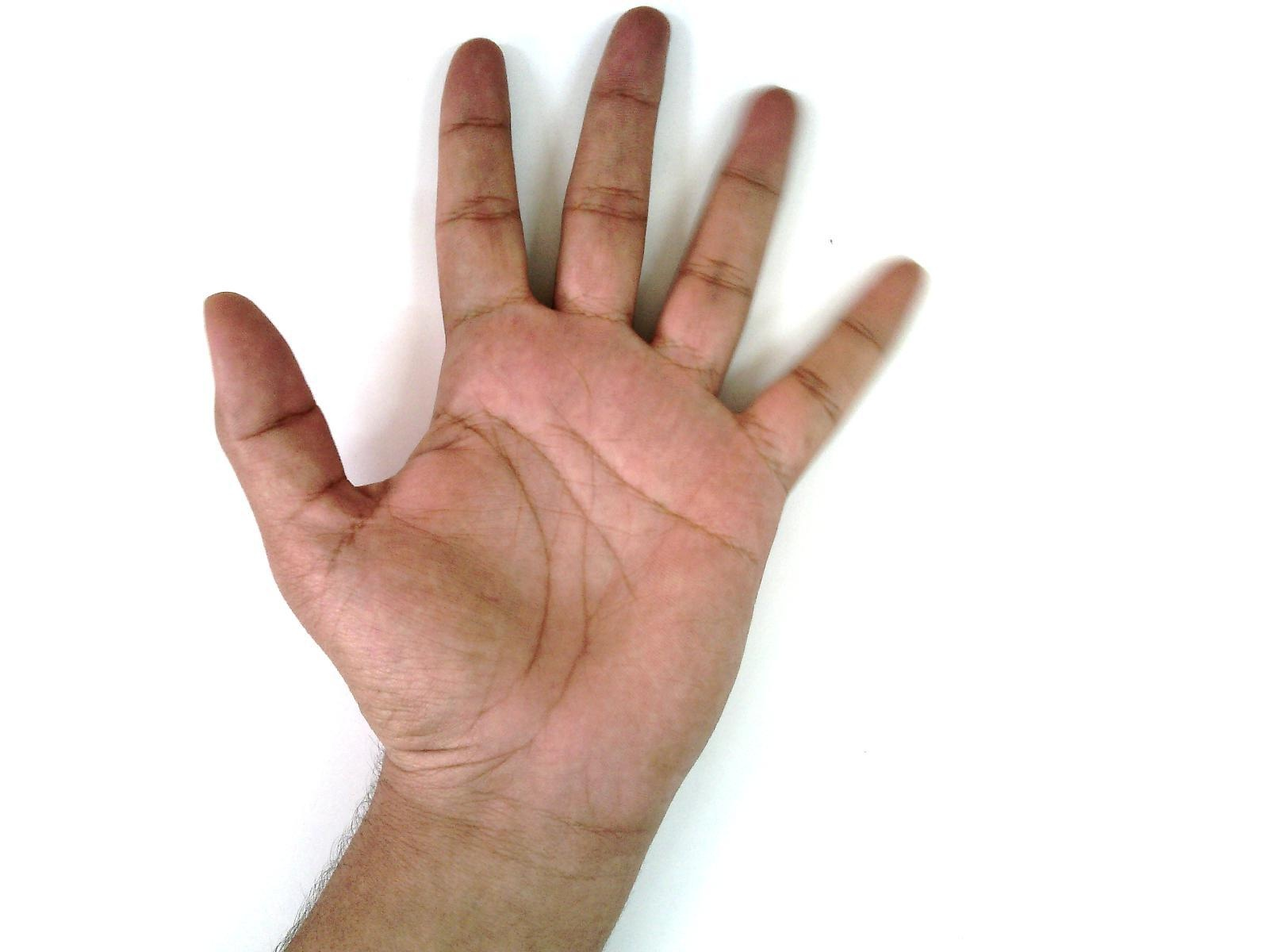open_palm: (197, 0, 932, 831)
